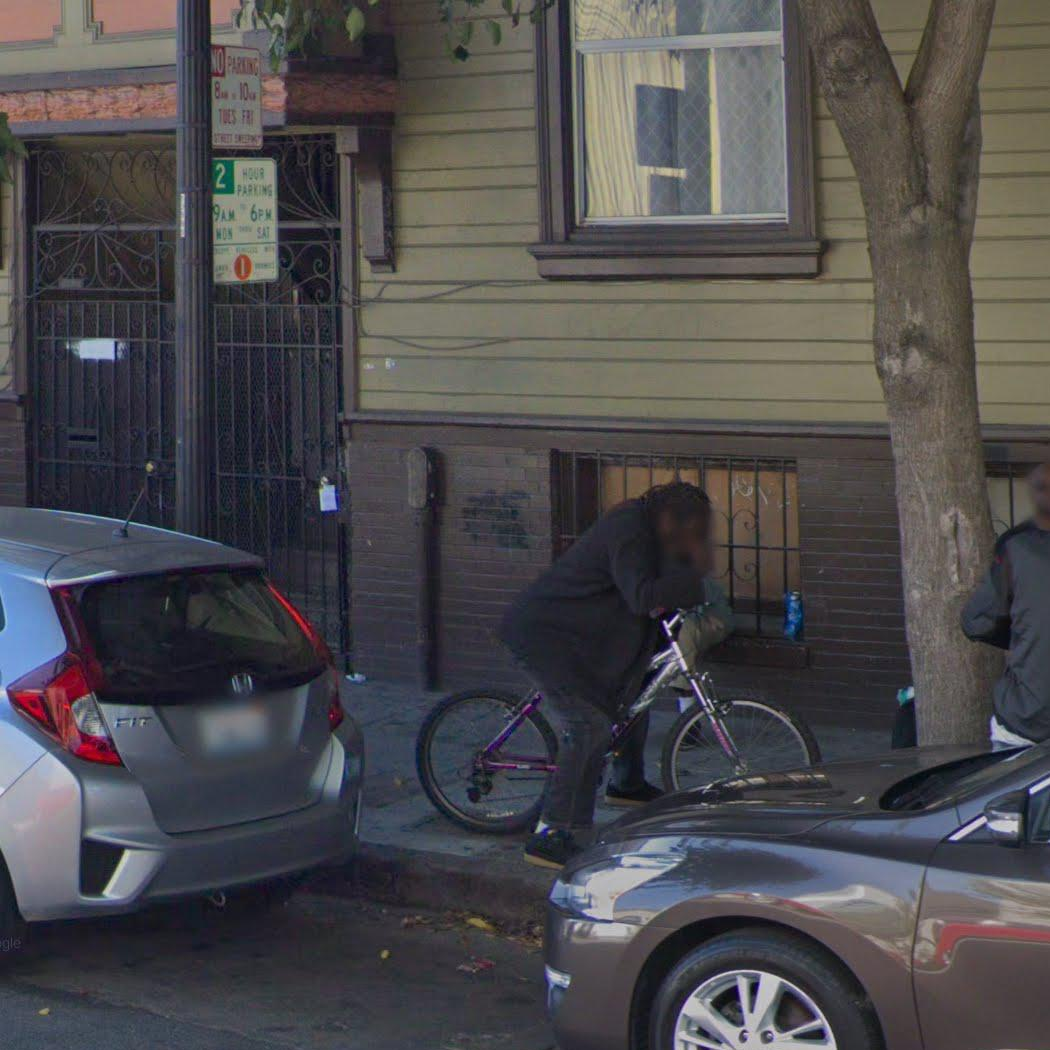2 Hour Parking: (210, 157, 280, 284)
No Parking: (210, 43, 264, 150)
